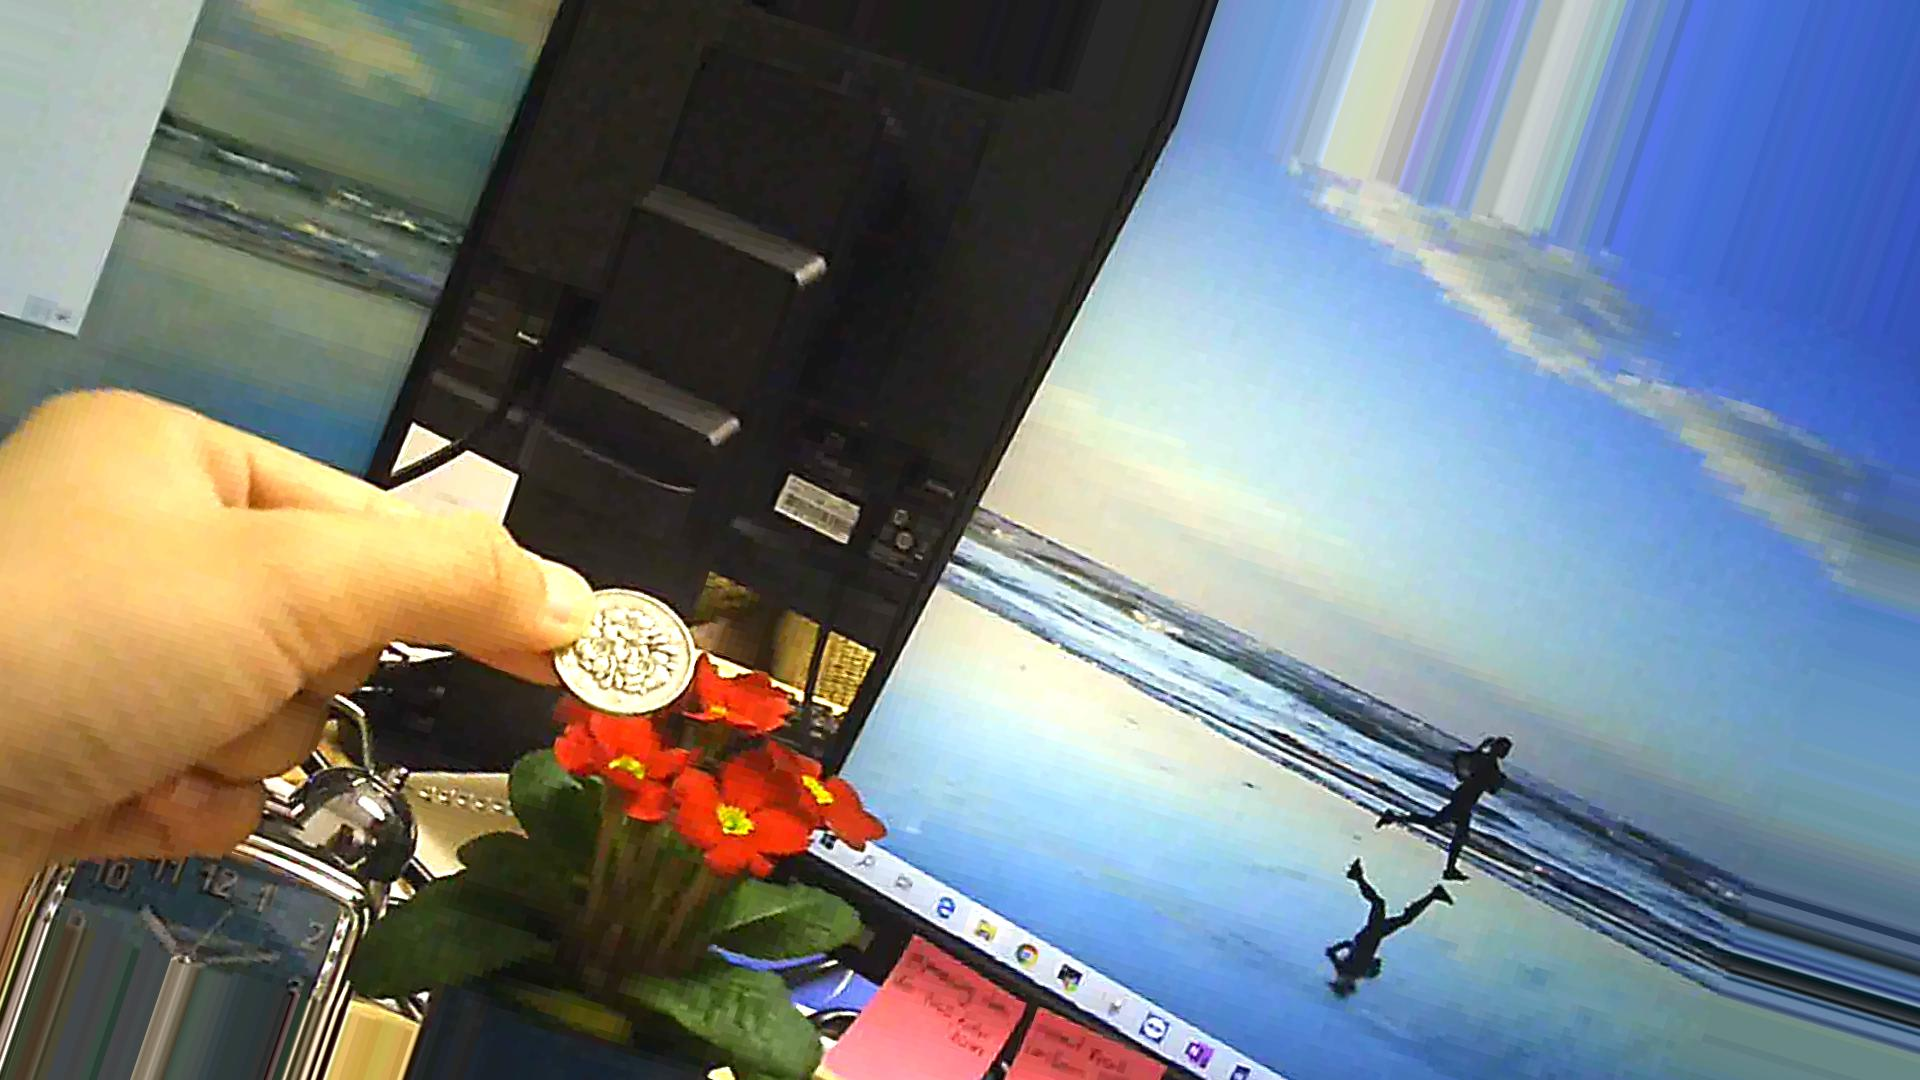100 Yen: (537, 578, 700, 719)
